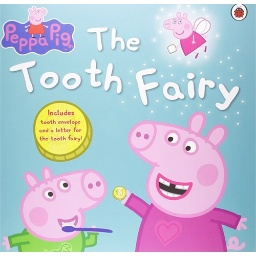Peppa: (110, 112, 247, 252)
